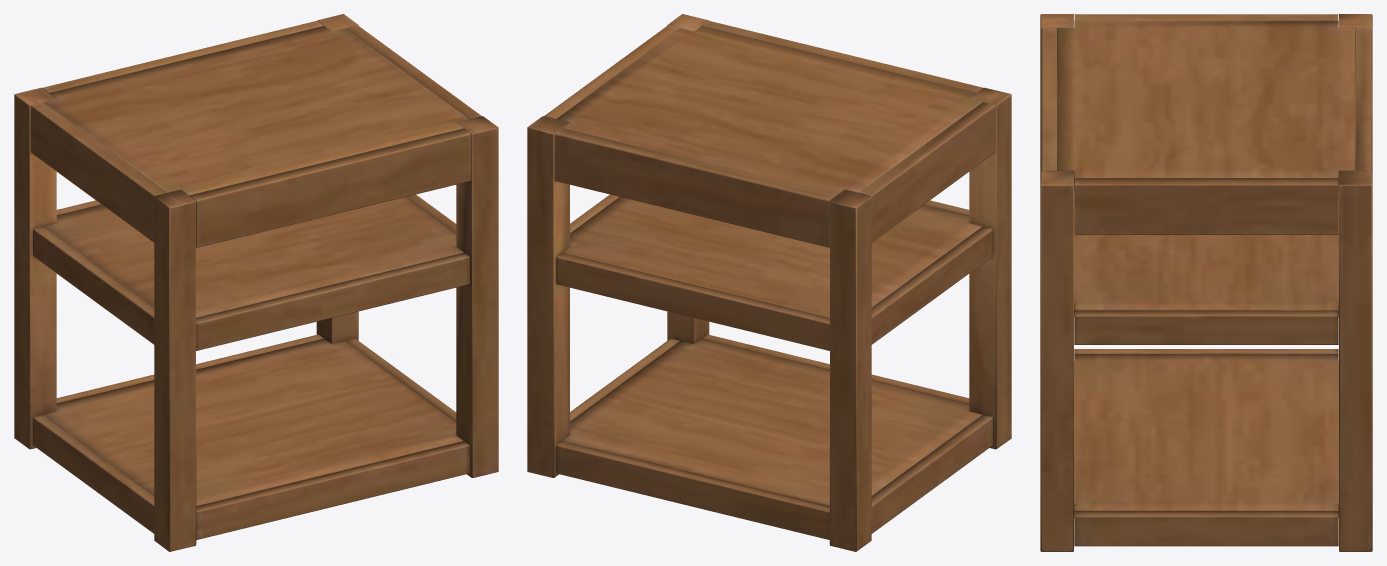
Rendered from side-table.glb.
The picture shows the model from 3 angles, left to right: view 1: azimuth 30°, elevation 25°; view 2: azimuth 150°, elevation 25°; view 3: azimuth 270°, elevation 25°; orthographic projection. The views are drawn at different scales.
Visible parts, largest first — view 1: side_table_01; view 2: side_table_01; view 3: side_table_01.
Boxes of the visible parts, x1,y1,x2,y2 form: side_table_01: [14, 14, 498, 551]; side_table_01: [527, 14, 1011, 551]; side_table_01: [1040, 14, 1372, 551].
Bounding box in the file's own units: 0.55 × 0.5507 × 0.45.
Materials: 1 (1 with a texture image).
